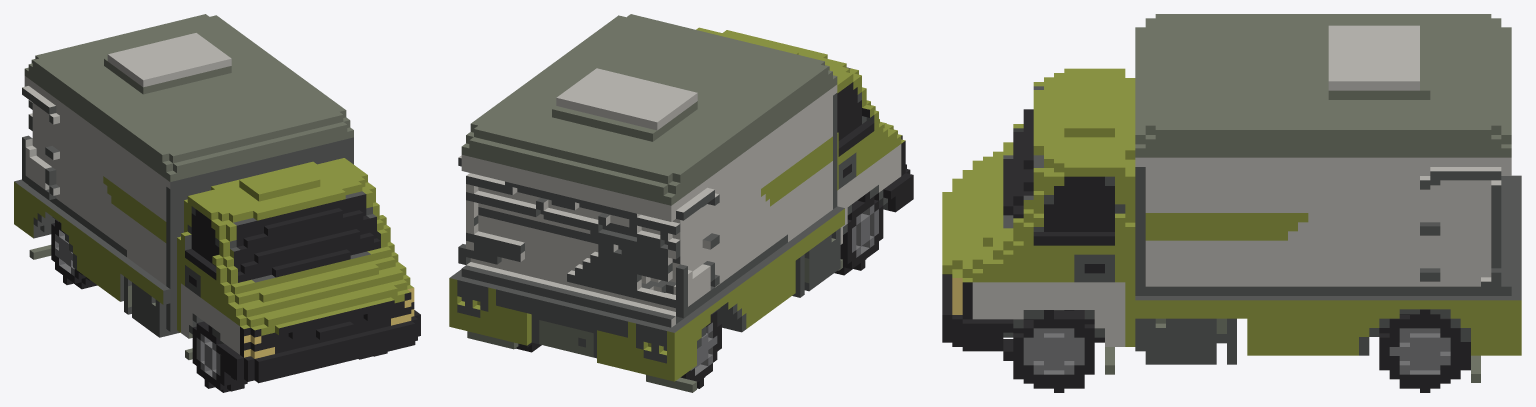
File: Truck.glb
The picture shows the model from 3 angles, left to right: view 1: azimuth 30°, elevation 25°; view 2: azimuth 150°, elevation 25°; view 3: azimuth 270°, elevation 25°; orthographic projection. The views are drawn at different scales.
Parts seen in each view (by area): view 1: BackWheels_Voxelized; view 2: BackWheels_Voxelized; view 3: BackWheels_Voxelized.
Part boxes in pixels (x1,y1,x2,y2): BackWheels_Voxelized: (14,14,420,392); BackWheels_Voxelized: (449,14,913,392); BackWheels_Voxelized: (942,14,1521,392).
Size of the model in its own units: 2.65 by 2.83 by 5.2.
2 materials, 1 textured.
